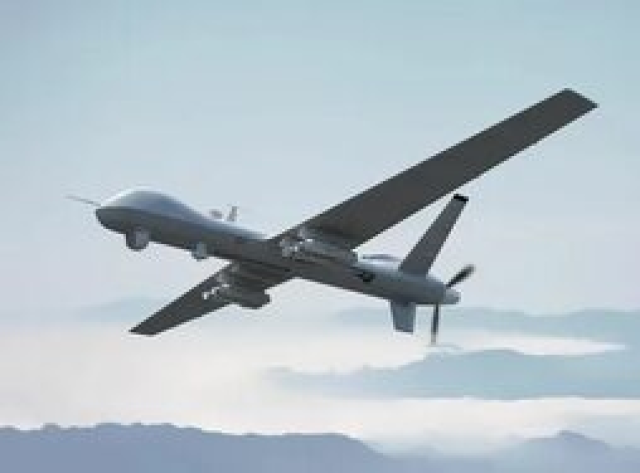military drone: (65, 87, 597, 344)
